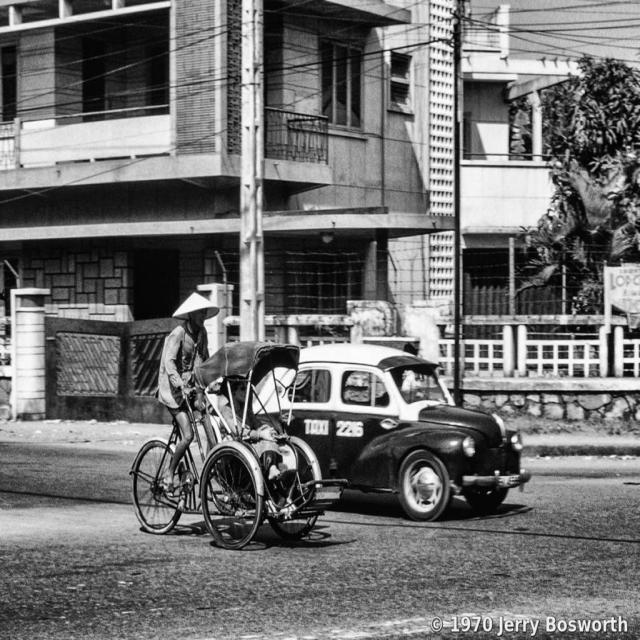car: (247, 349, 508, 525)
